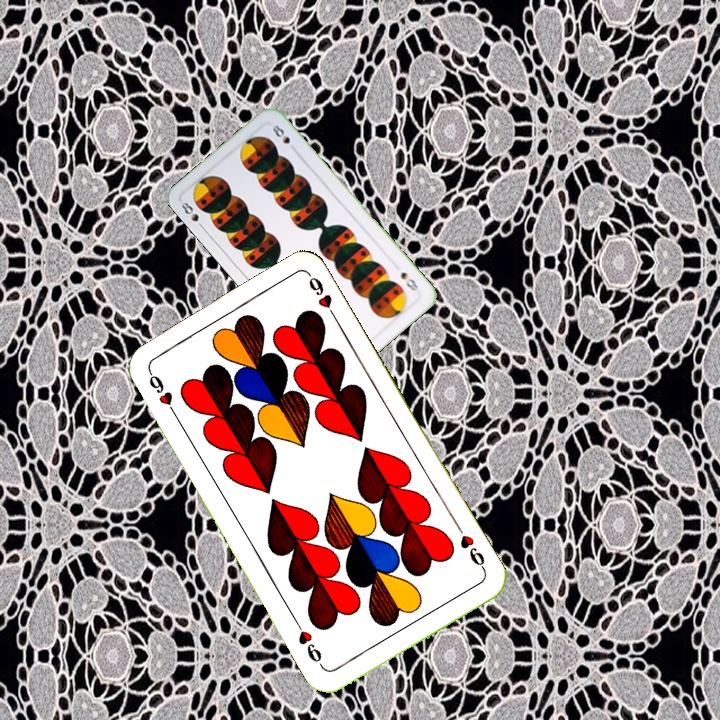H9: (144, 367, 181, 421), (453, 521, 489, 575)
S8: (175, 198, 207, 232), (397, 268, 421, 294)
